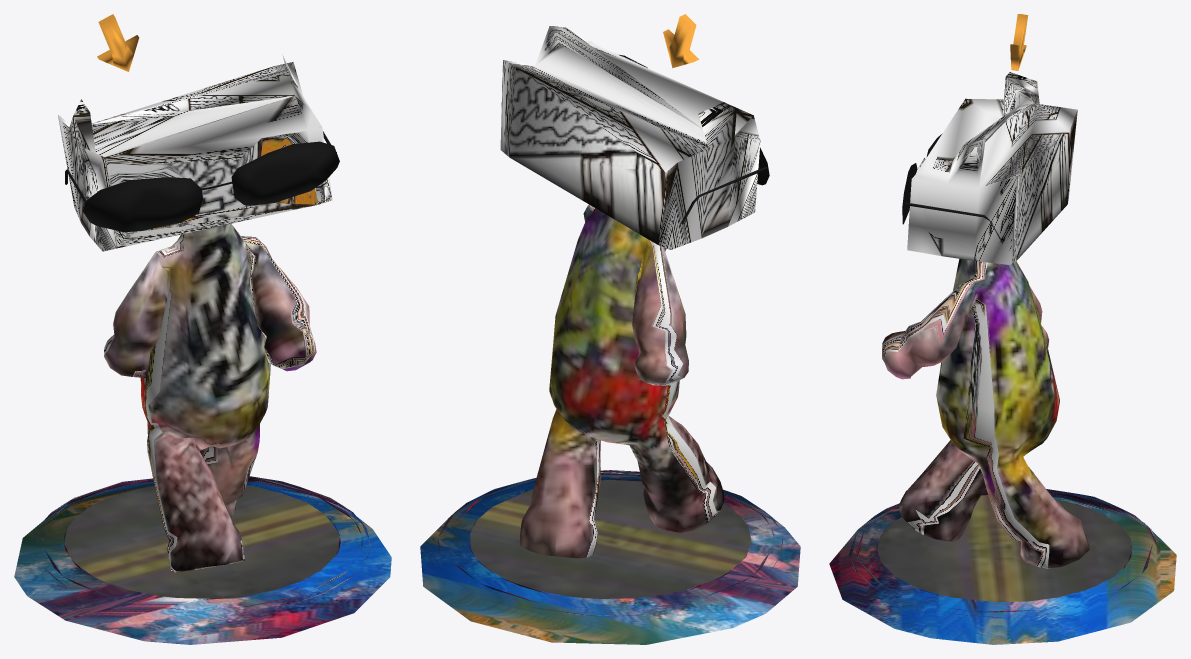
3 views of the same model, side by side, from view 1: azimuth 30°, elevation 25°; view 2: azimuth 150°, elevation 25°; view 3: azimuth 270°, elevation 25° (orthographic). The views are drawn at different scales.
Size of the model in its own units: 1.44 by 2.36 by 1.43.
6 materials, 5 textured.
